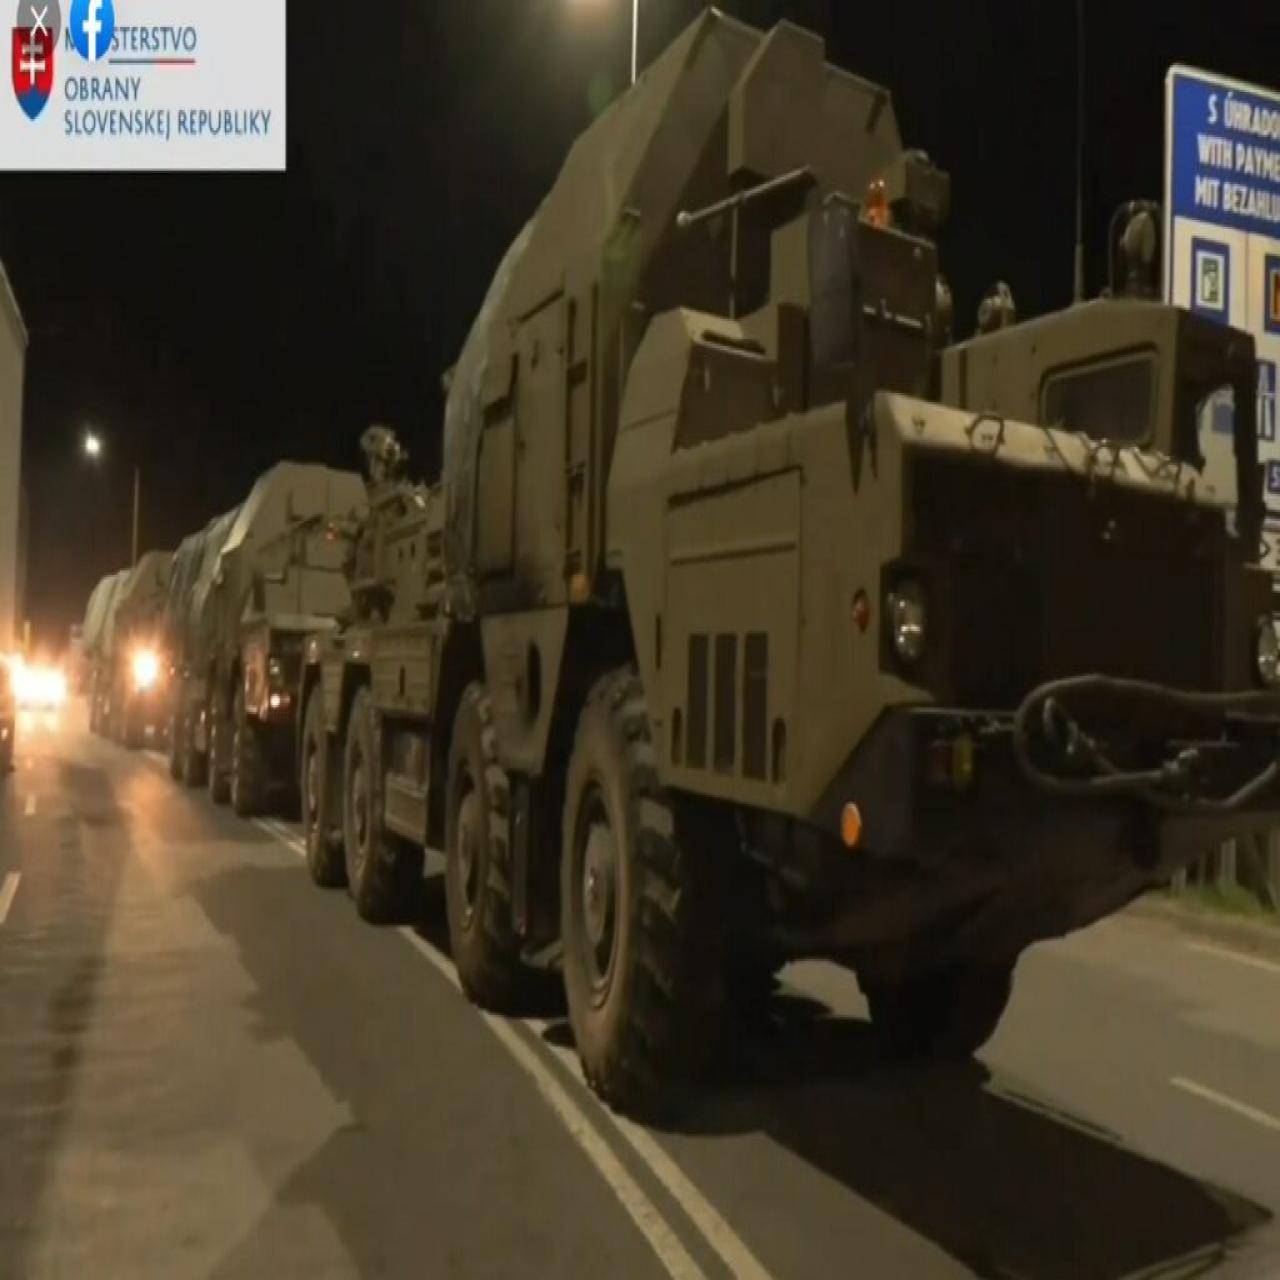MIL_Veh: (311, 19, 1280, 1105), (177, 463, 373, 809)
